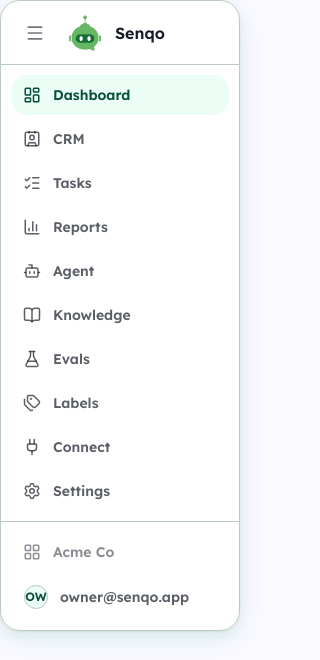
Test case: Sidebar workspace indicator › shows the workspace initial after collapsing the sidebar
The image size is (320, 660).
Expected: the text "Acme Co" is shown, [53,542,114,562]
Click the button named "Collapse sidebar" at coordinates (35, 32), box [15,12,55,52]
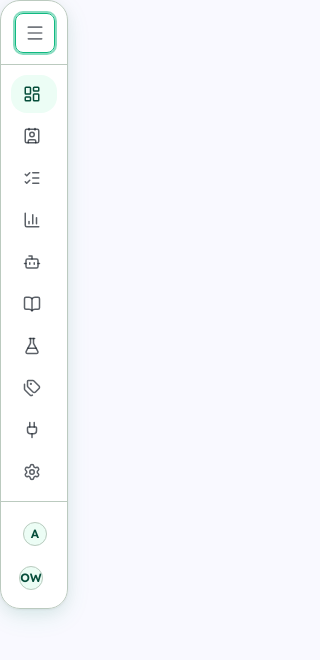
Expected: the text "A" is shown, [23,522,47,546]
Result: the text "Acme Co" is gone
